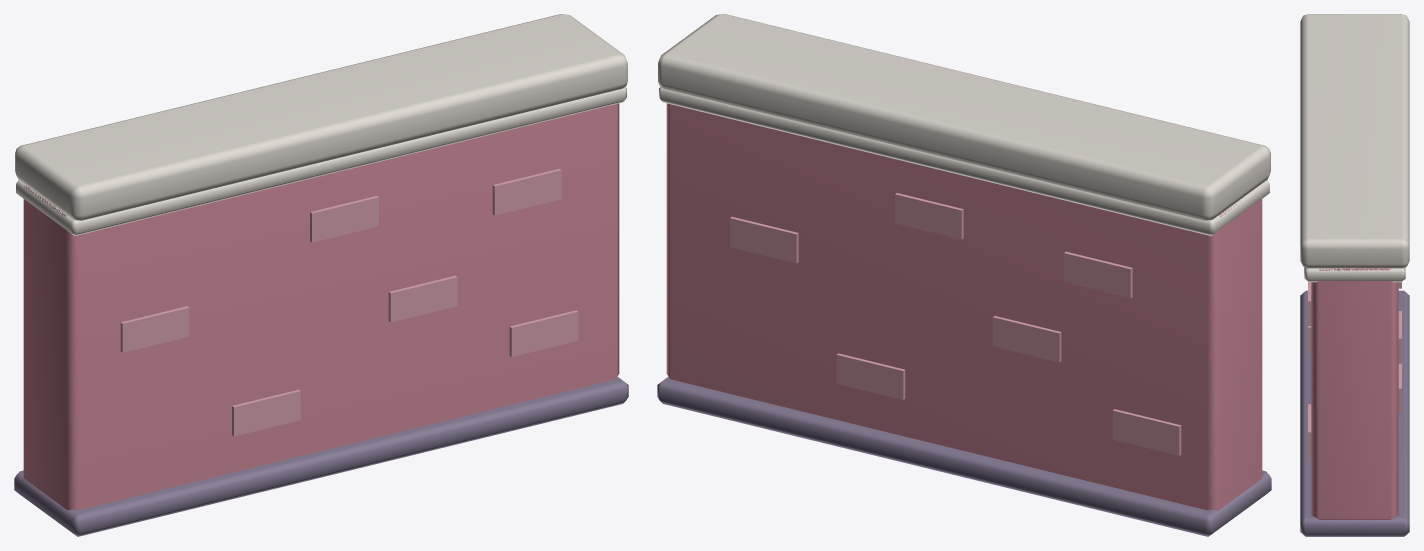
File: block-wall1.glb
3 renders of one model, left to right at view 1: azimuth 30°, elevation 25°; view 2: azimuth 150°, elevation 25°; view 3: azimuth 270°, elevation 25°, orthographic. The views are drawn at different scales.
Parts seen in each view (by area): view 1: block-wall1; view 2: block-wall1; view 3: block-wall1.
Boxes of the visible parts, box(x1,y1,x2,y2) form: block-wall1: box(14, 14, 628, 536); block-wall1: box(657, 14, 1271, 536); block-wall1: box(1300, 14, 1409, 536).
Bounding box in the file's own units: 2 × 1.2 × 0.4.
